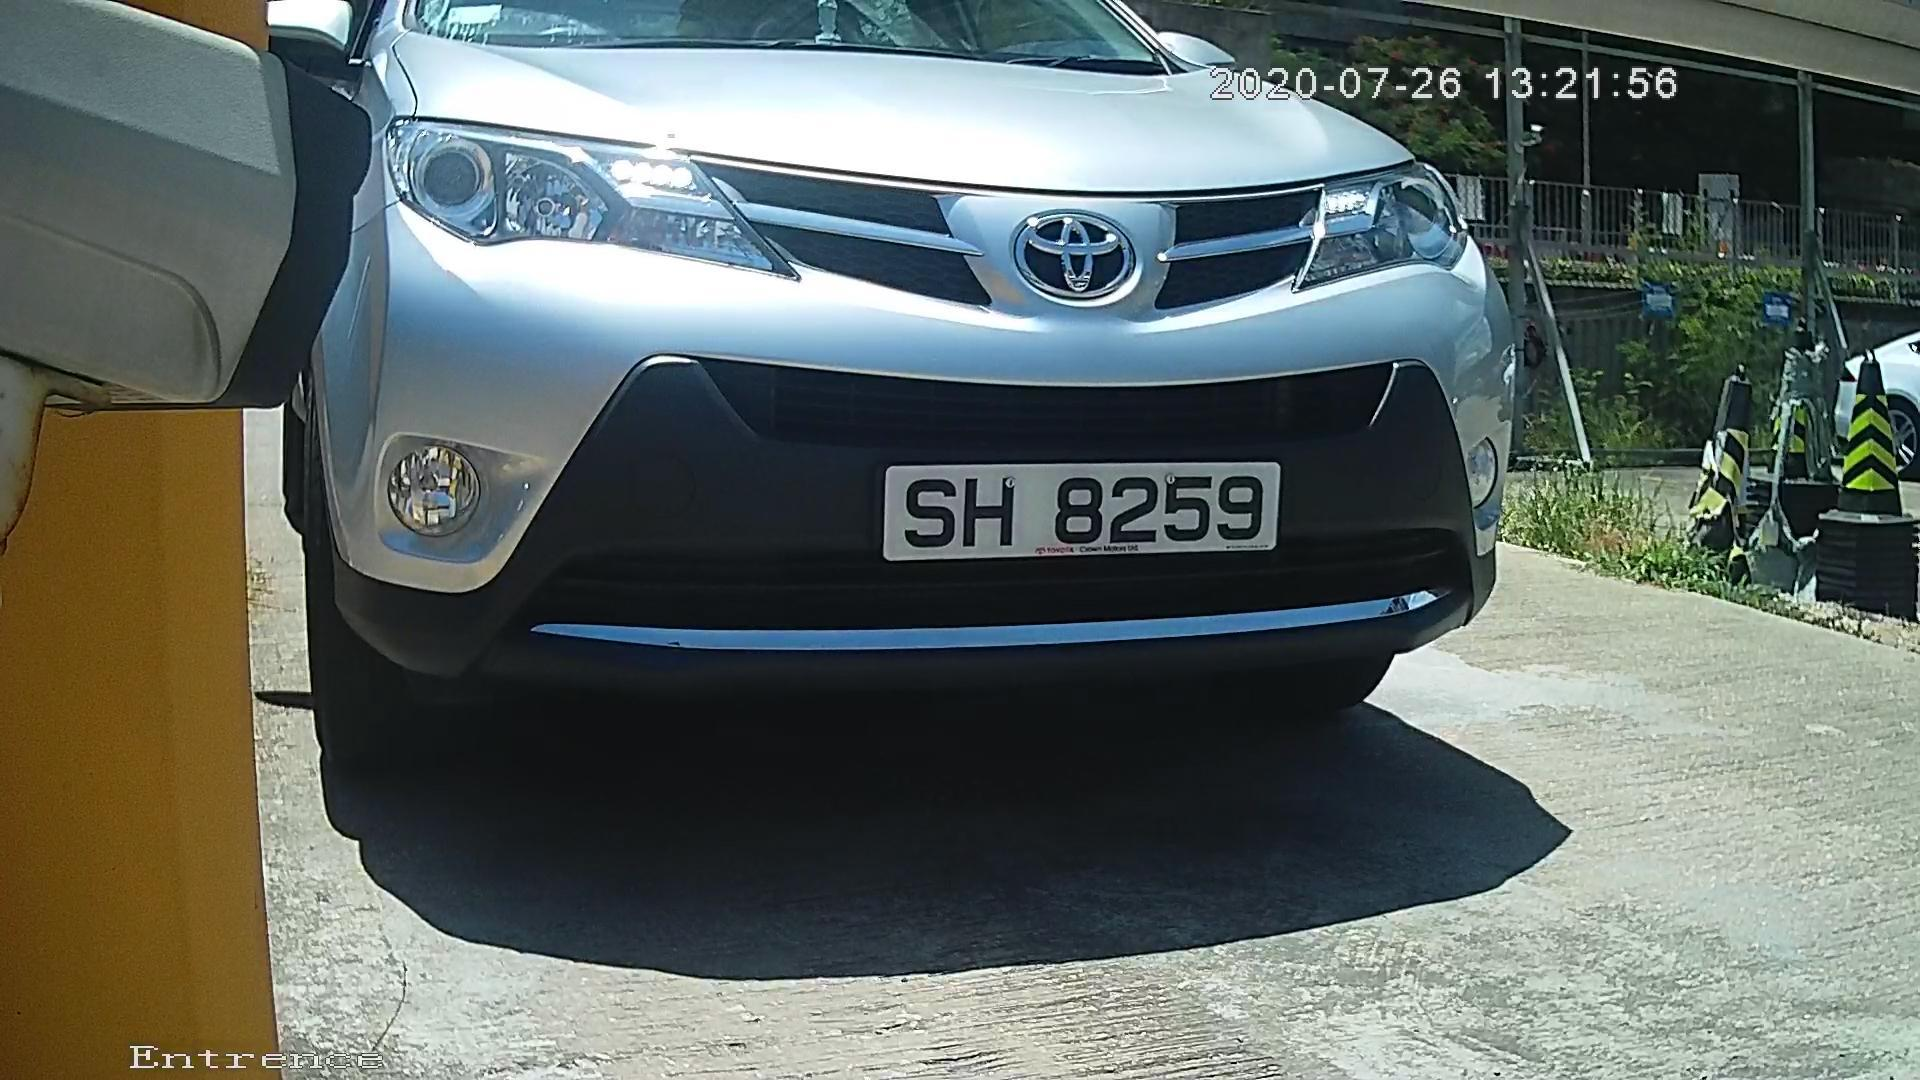privatecar: (223, 1, 1586, 873)
